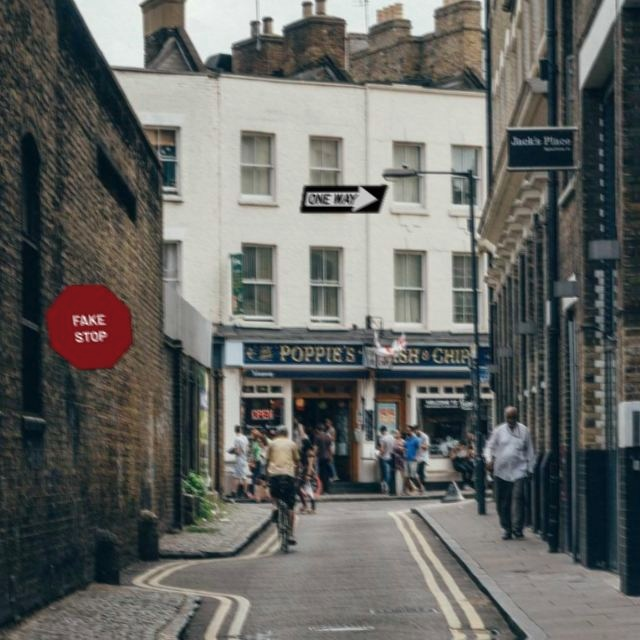FAKE_STOP: (47, 286, 136, 373)
ONE_WAY_ right: (302, 187, 391, 216)
